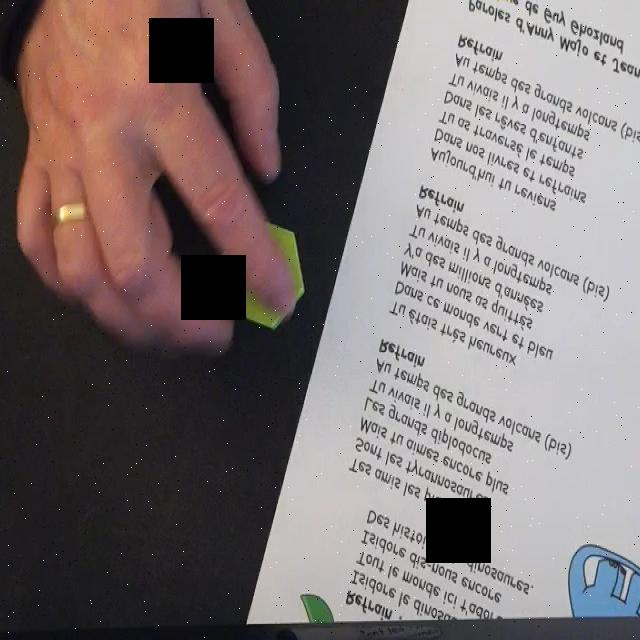hexagon: (218, 218, 306, 331)
